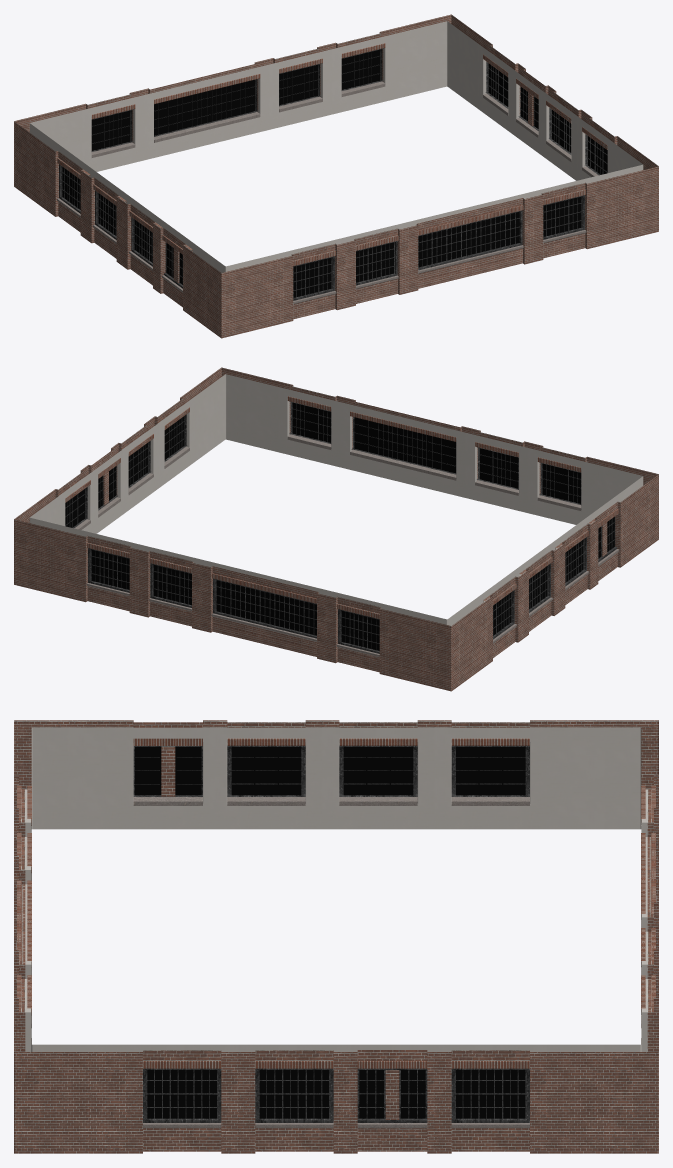
Rendered from BuildingA_Mid_VarA.fbx.
The picture shows the model from 3 angles, top to bottom: view 1: azimuth 30°, elevation 25°; view 2: azimuth 150°, elevation 25°; view 3: azimuth 270°, elevation 25°; orthographic projection. The views are drawn at different scales.
Visible parts, largest first — view 1: BuildingA_Mid_VarA; view 2: BuildingA_Mid_VarA; view 3: BuildingA_Mid_VarA.
Part boxes in pixels (<box>): BuildingA_Mid_VarA: <box>14,14,658,338</box>; BuildingA_Mid_VarA: <box>14,367,658,691</box>; BuildingA_Mid_VarA: <box>14,720,658,1153</box>.
Bounding box in the file's own units: 2800 × 400 × 2300.
